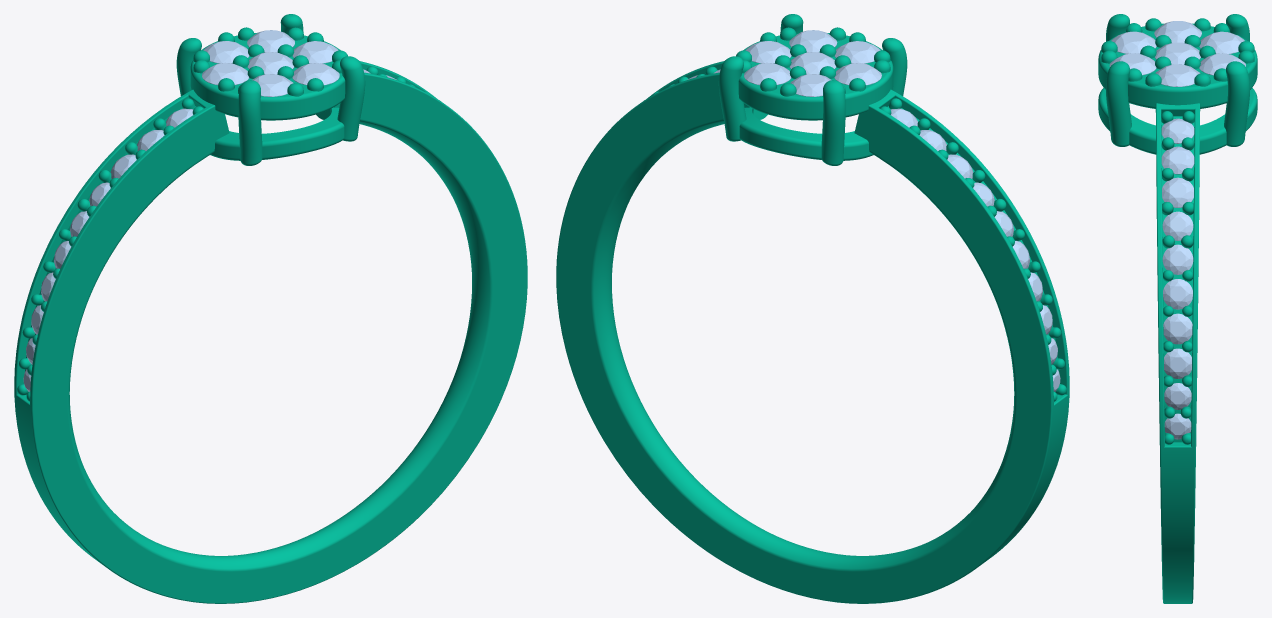
3 renders of one model, left to right at view 1: azimuth 30°, elevation 25°; view 2: azimuth 150°, elevation 25°; view 3: azimuth 270°, elevation 25°, orthographic.
Visible parts, largest first — view 1: custer ring(render).3dm, Diamond_Round (×6); view 2: custer ring(render).3dm, Diamond_Round (×6); view 3: custer ring(render).3dm, Diamond_Round (×17).
Part boxes in pixels (x1,y1,x2,y2): custer ring(render).3dm: (14, 14, 527, 603); Diamond_Round (×6): (202, 30, 339, 85); custer ring(render).3dm: (556, 14, 1069, 603); Diamond_Round (×6): (744, 30, 881, 85); custer ring(render).3dm: (1098, 14, 1257, 603); Diamond_Round (×17): (1109, 21, 1245, 439).
Bounding box in the file's own units: 2.71 × 2.84 × 0.7606.
